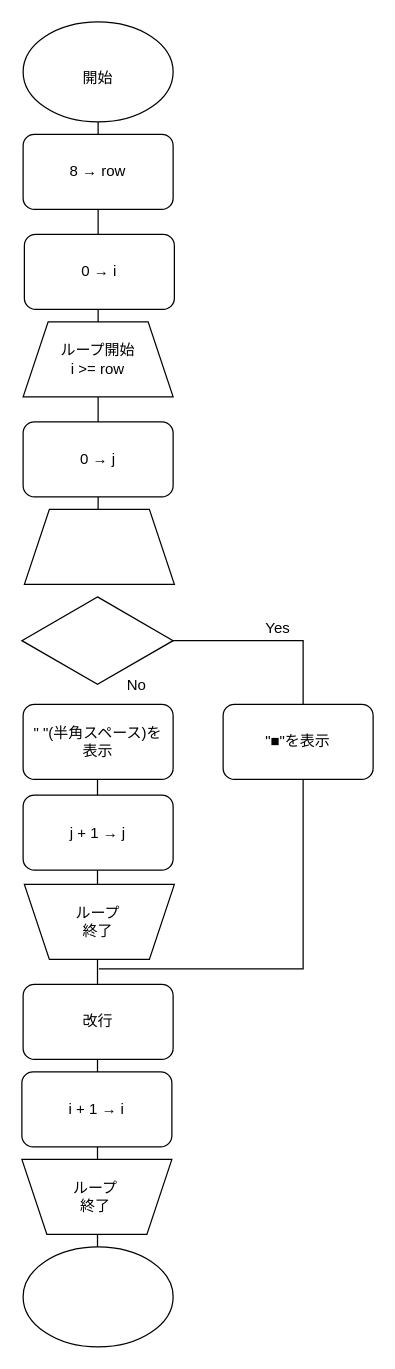
This 395x1369 diagram has some shape labels left out. The centre of each missing label's shape, as x and y in pixels:
"j = row - (i + 1)" belongs at [97,640].
"ループ開始 j >= row -i" belongs at [98,546].
"終了" belongs at [97,1296].
